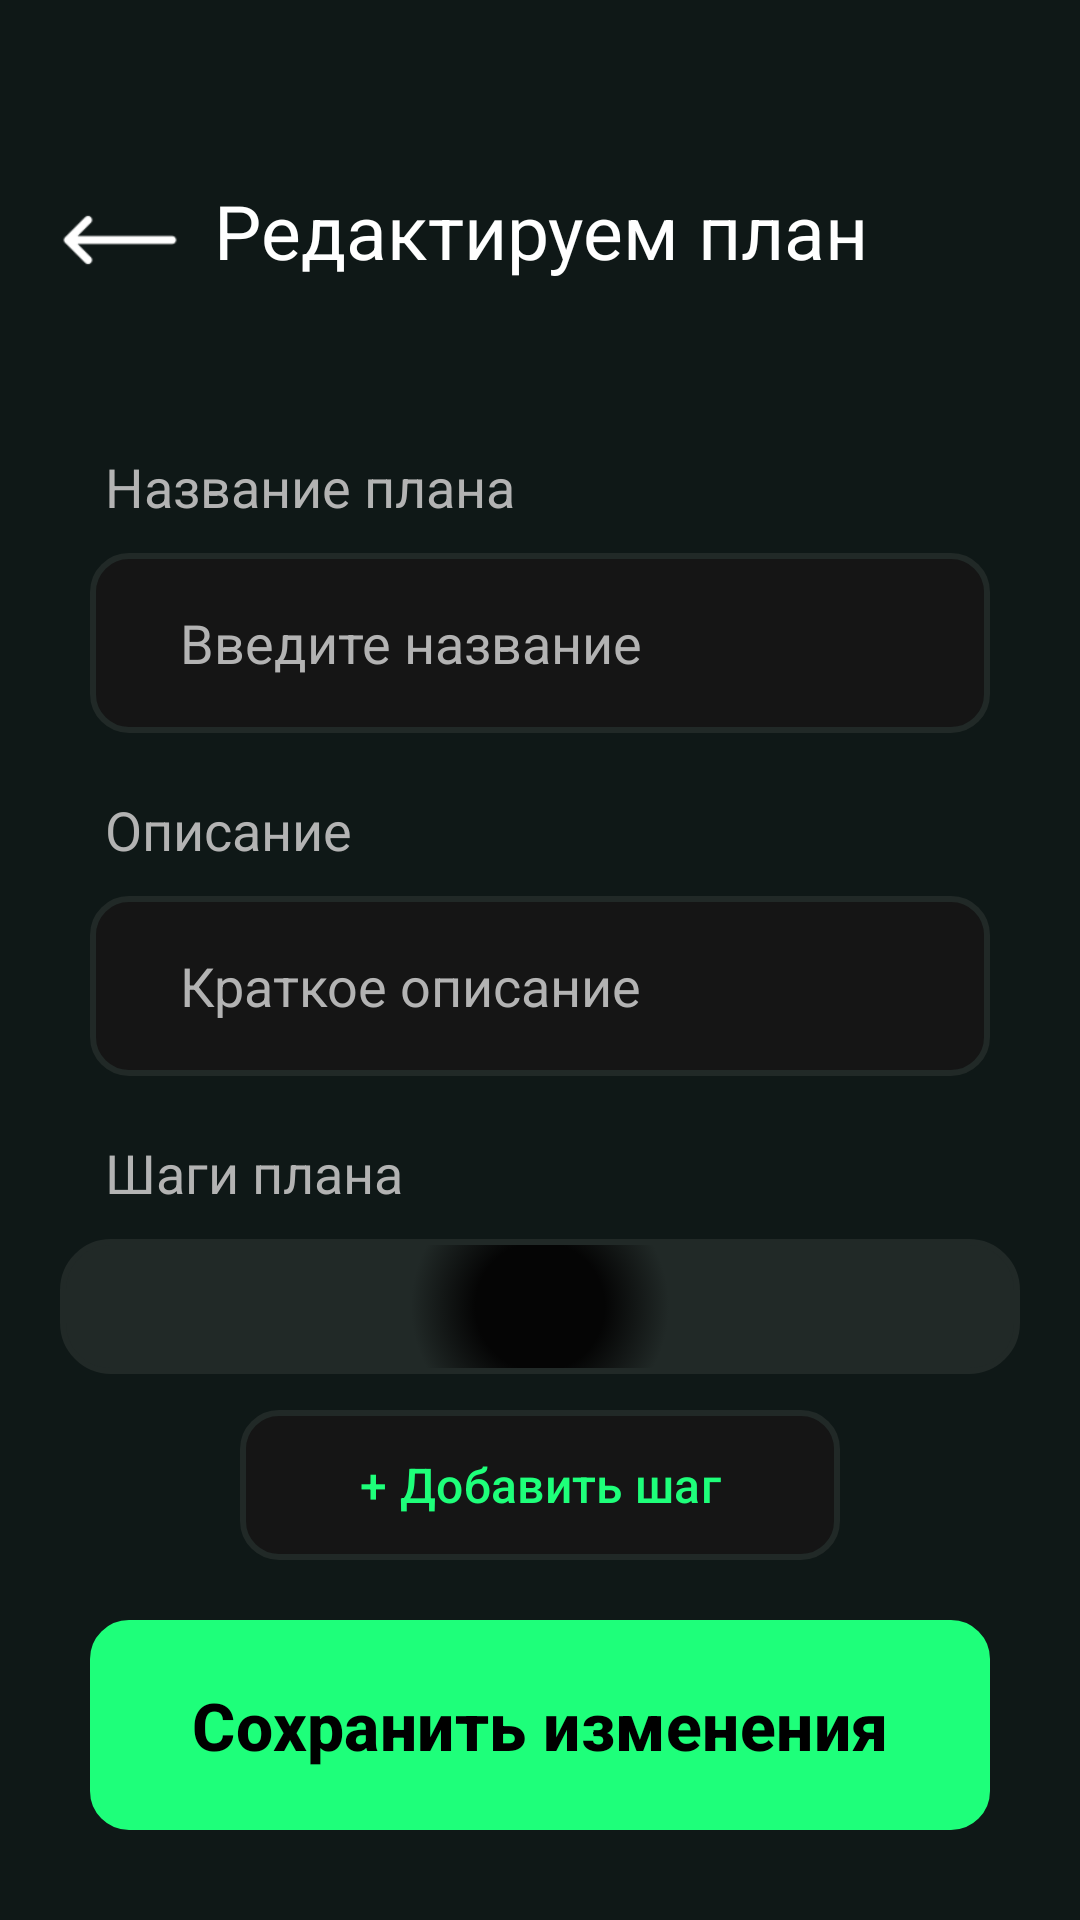

Where icons sit on this 1080 x 1920 app screen, as (x1, y1, x2, y2):
left arrow: (63, 215, 177, 265)
